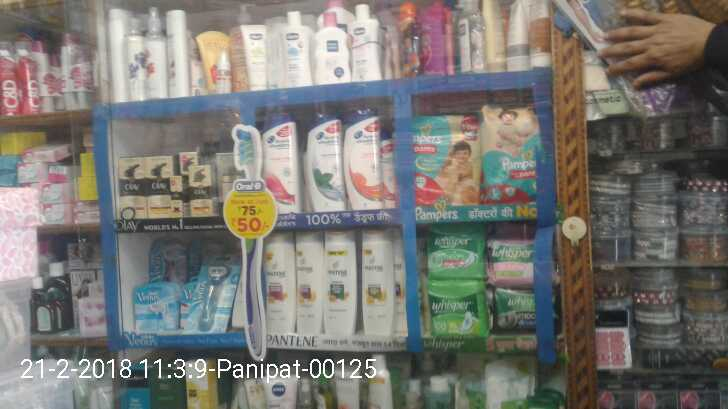venus: (129, 281, 193, 329), (199, 250, 227, 331), (152, 234, 190, 278)
